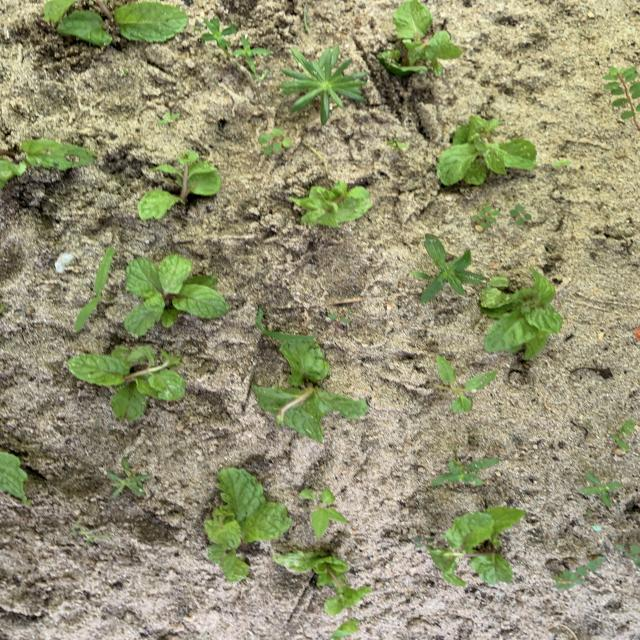crop: (254, 335, 367, 441), (207, 468, 290, 581), (69, 346, 185, 420), (125, 255, 228, 335), (429, 507, 525, 585), (480, 269, 562, 358), (437, 117, 535, 184), (44, 1, 187, 45), (275, 549, 370, 615), (384, 1, 462, 75), (140, 151, 221, 219), (1, 139, 93, 187), (291, 182, 371, 227), (1, 452, 28, 503), (333, 620, 359, 639)
weed: (281, 46, 367, 123), (412, 235, 485, 302), (429, 355, 496, 411), (76, 248, 114, 330), (603, 66, 639, 130), (300, 489, 347, 538), (432, 459, 499, 486), (553, 556, 606, 588), (109, 458, 150, 498), (581, 472, 622, 507), (234, 36, 271, 73), (200, 18, 235, 48), (73, 520, 111, 543), (260, 129, 291, 153), (611, 420, 634, 450), (472, 205, 499, 228), (616, 543, 639, 569), (510, 205, 531, 223), (328, 308, 353, 323), (414, 530, 434, 547), (158, 112, 179, 124), (387, 139, 407, 150), (554, 160, 570, 167)
